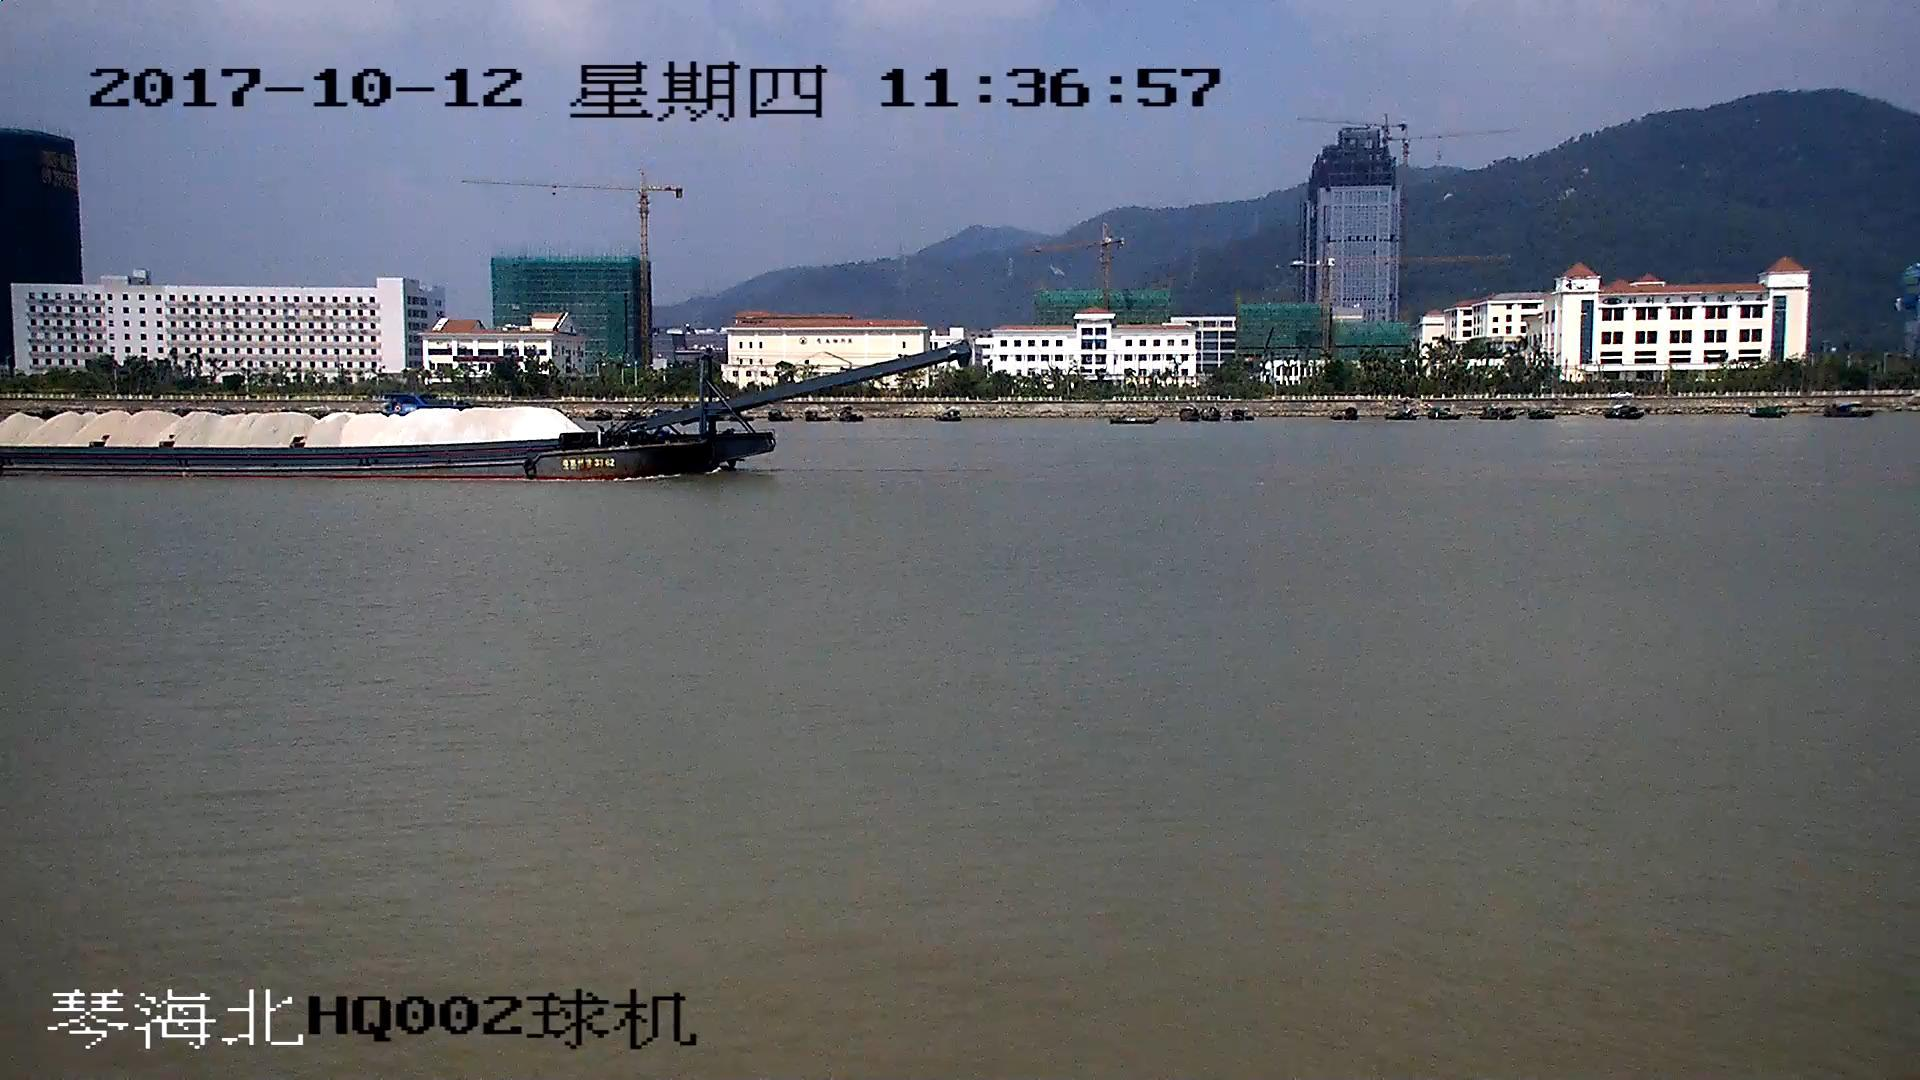Ship: (3, 345, 968, 477)
